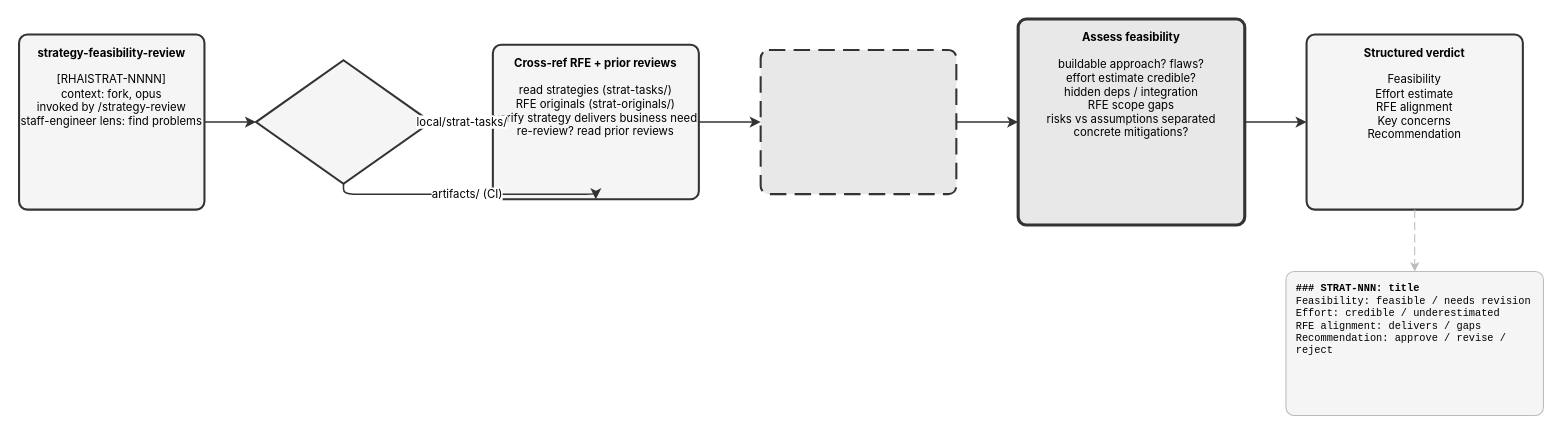
Image size: 1561x434. Some labels were removed from this diagram. Each missing label, with the box of its shape:
Arch context .context/.../rhoai-* PLATFORM.md + component docs ground assessment: (759, 48, 957, 195)
Mode? local/strat-tasks/ present? else artifacts/ (CI): (254, 59, 432, 184)
